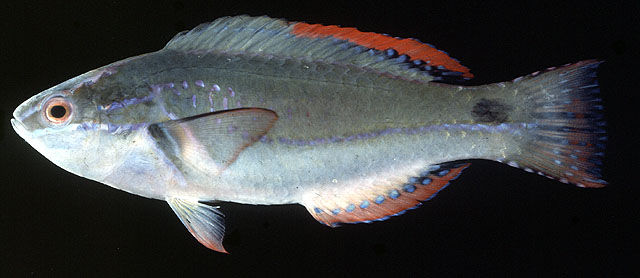fish: (10, 16, 608, 255)
